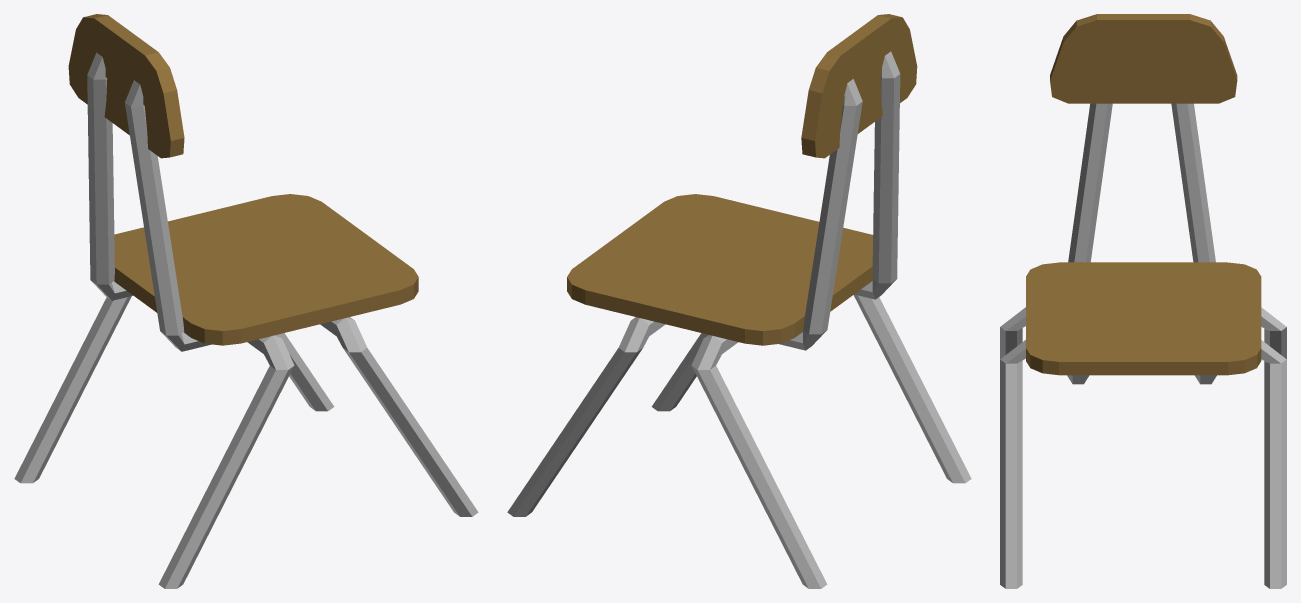
The model's file is chair.glb.
The picture shows the model from 3 angles, left to right: view 1: azimuth 30°, elevation 25°; view 2: azimuth 150°, elevation 25°; view 3: azimuth 270°, elevation 25°; orthographic projection. The views are drawn at different scales.
Visible parts, largest first — view 1: Cube.001; view 2: Cube.001; view 3: Cube.001.
Part boxes in pixels (left/top/right/bottom): Cube.001: left=14, top=14, right=478, bottom=588; Cube.001: left=507, top=14, right=971, bottom=588; Cube.001: left=1000, top=14, right=1286, bottom=588.
Size of the model in its own units: 1.13 by 1.68 by 0.975.
